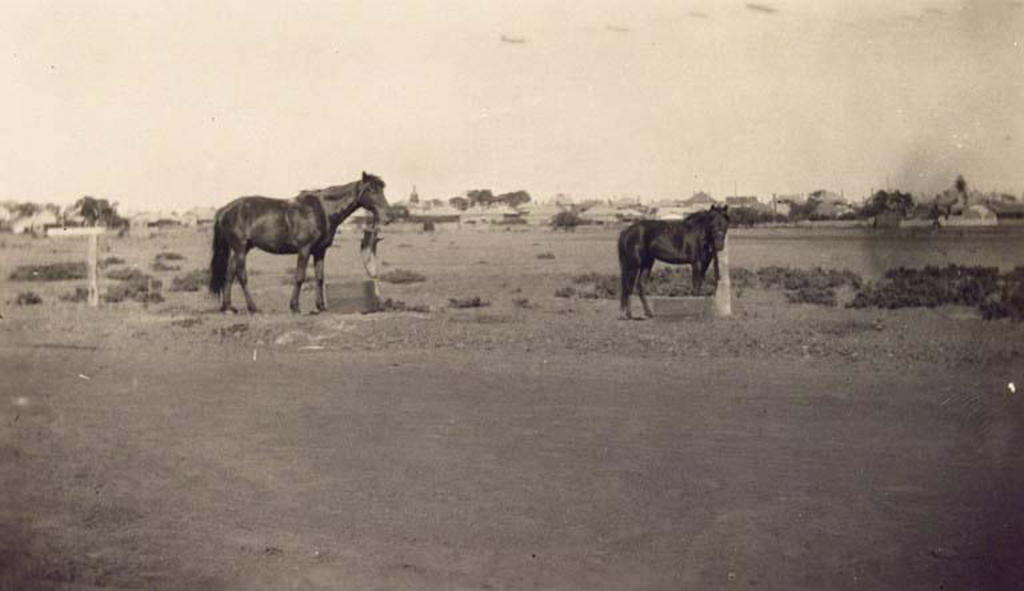horse: (209, 172, 393, 314), (617, 204, 730, 320)
